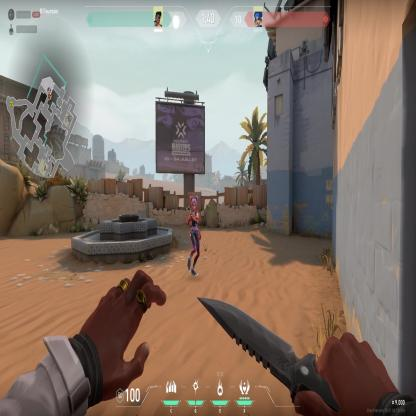enemy: (186, 194, 202, 277)
